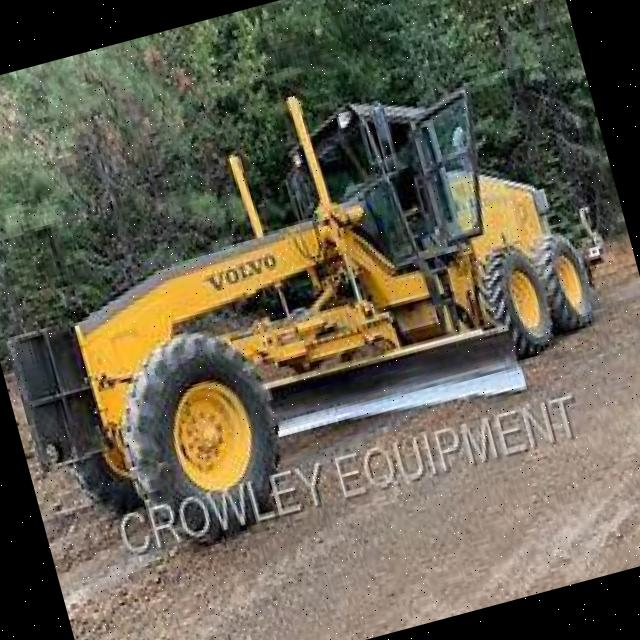Grader: (0, 28, 635, 577)
